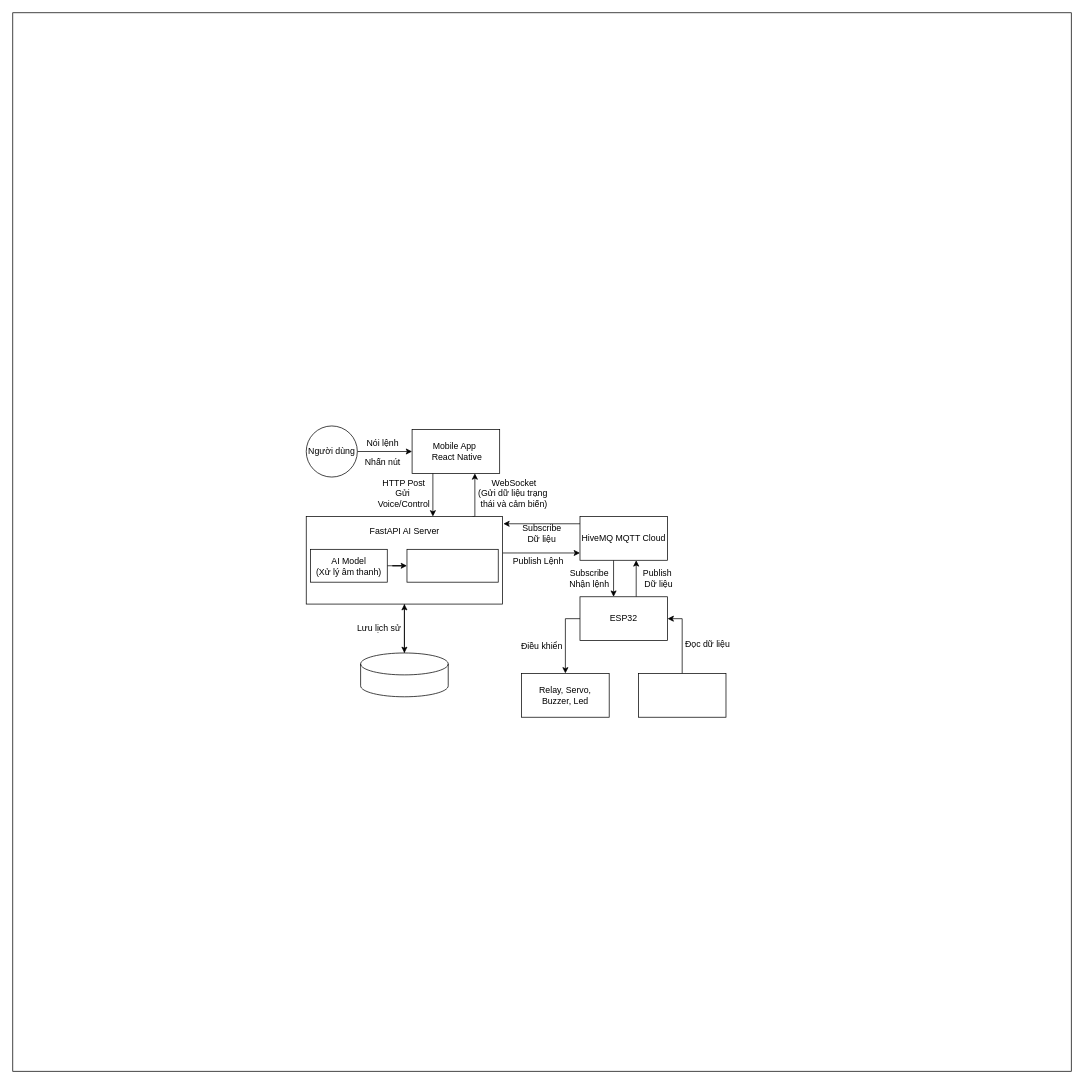
The diagram is 1084 pixels wide and 1084 high, and some of its shapes have lost their labels. The centre of each missing label's shape, as x and y in pixels:
"Database" goes at (x=404, y=674).
"DHT11 MQ2" goes at (x=682, y=695).
"Trích xuất json (device, room, action)" goes at (x=452, y=565).
